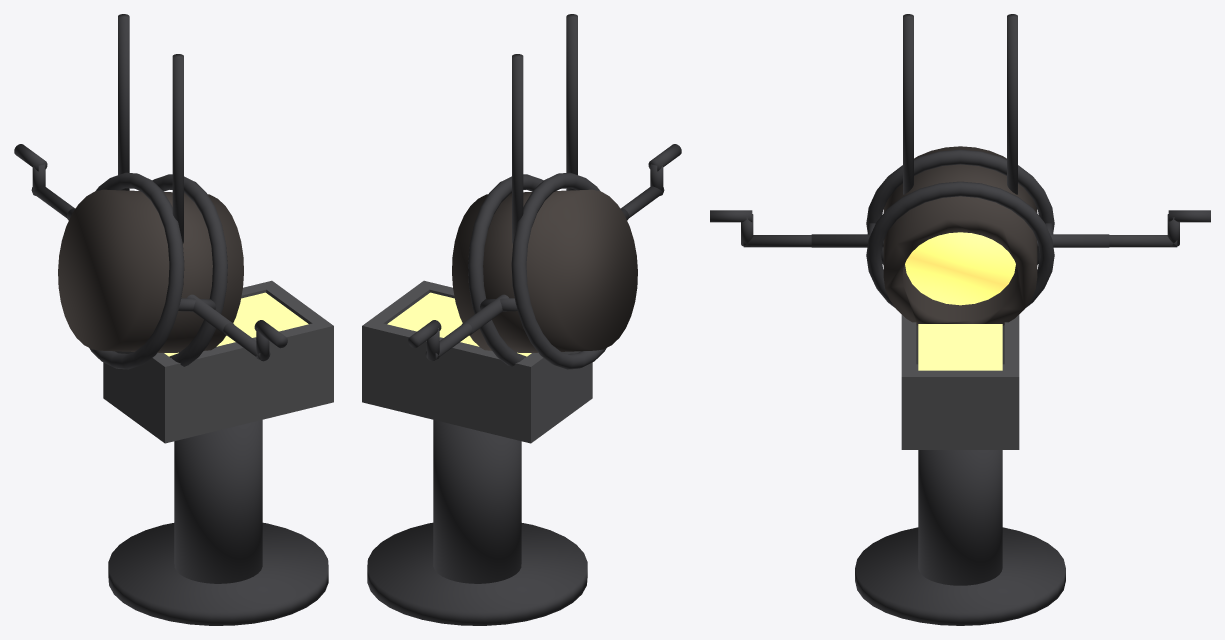
File: AadiShakti_Foundry.glb
3 renders of one model, left to right at view 1: azimuth 30°, elevation 25°; view 2: azimuth 150°, elevation 25°; view 3: azimuth 270°, elevation 25°, orthographic. The views are drawn at different scales.
Parts seen in each view (by area): view 1: Pedestal, Crucible, Mold_Box, Crucible_Cradle, Lava_Mold; view 2: Pedestal, Crucible, Mold_Box, Crucible_Cradle, Lava_Mold; view 3: Pedestal, Crucible_Cradle, Crucible, Mold_Box, Lava_Crucible, Lava_Mold.
Boxes of the visible parts, box(x1,y1,x2,y2) form: Pedestal: box(108, 420, 328, 625); Crucible: box(58, 189, 243, 352); Mold_Box: box(103, 280, 333, 443); Crucible_Cradle: box(14, 14, 287, 369); Lava_Mold: box(164, 292, 308, 356); Pedestal: box(367, 420, 587, 625); Crucible: box(452, 189, 637, 352); Mold_Box: box(362, 280, 592, 443); Crucible_Cradle: box(408, 14, 681, 369); Lava_Mold: box(387, 292, 531, 356); Pedestal: box(855, 450, 1065, 625); Crucible_Cradle: box(710, 14, 1210, 307); Crucible: box(883, 146, 1037, 325); Mold_Box: box(901, 315, 1019, 449); Lava_Crucible: box(905, 232, 1015, 305); Lava_Mold: box(918, 324, 1002, 370).
Bounding box in the file's own units: 2.05 × 4.75 × 4.04.
